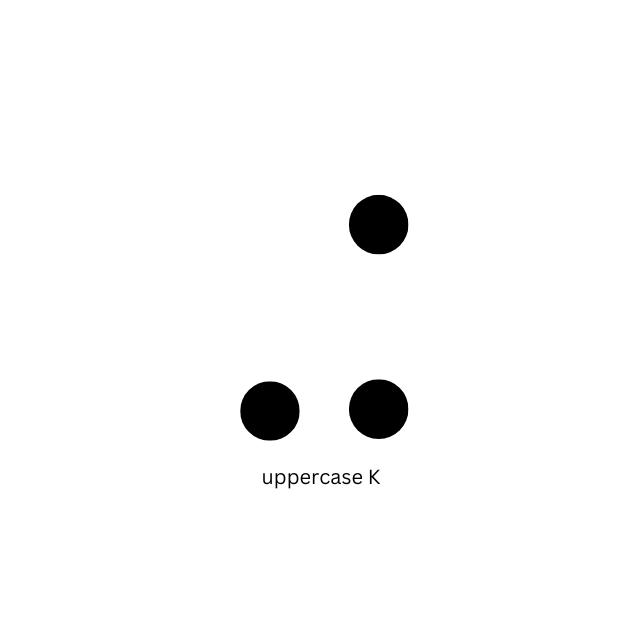capital_sign: (145, 193, 301, 441)
letter_K: (348, 194, 504, 442)
